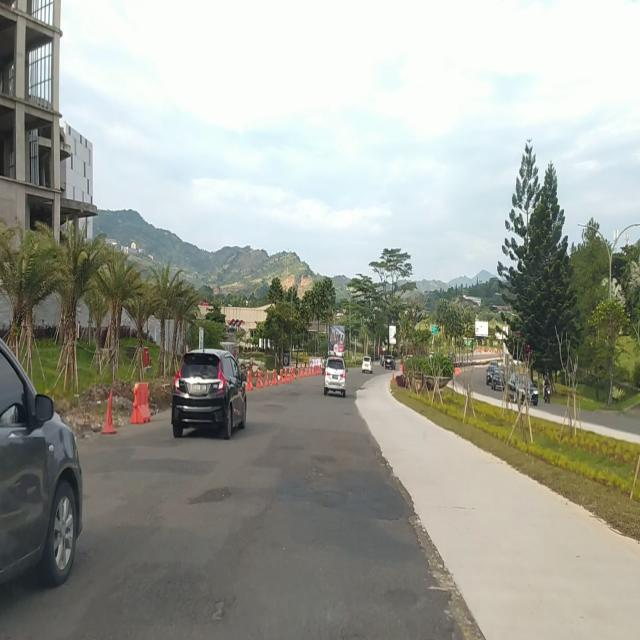Drain Hole: (124, 569, 233, 634), (285, 461, 328, 492)
